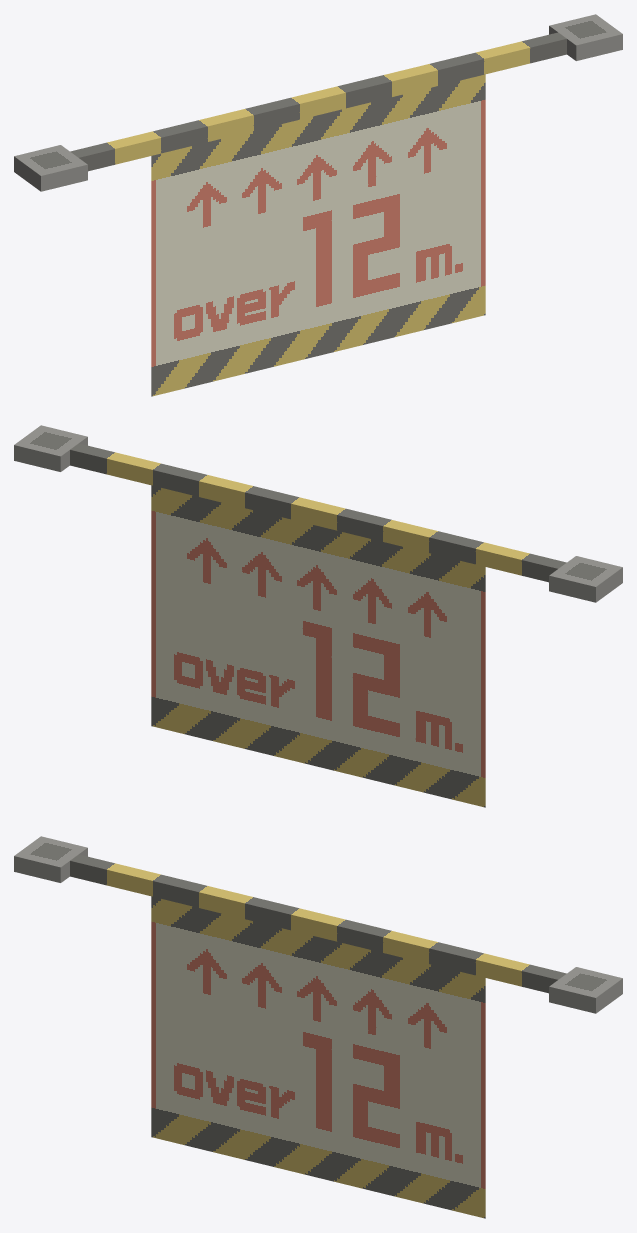
The model's file is 0340_Over_12m_Sign.glb.
3 views of the same model, one above another, from view 1: azimuth 30°, elevation 25°; view 2: azimuth 150°, elevation 25°; view 3: azimuth 330°, elevation 25° (orthographic).
Visible parts, largest first — view 1: part_0; view 2: part_0; view 3: part_0.
Boxes of the visible parts, x1,y1,x2,y2 form: part_0: [14, 14, 622, 396]; part_0: [14, 425, 622, 807]; part_0: [14, 836, 622, 1218].
Bounding box in the file's own units: 10.44 × 4.47 × 0.84.
Materials: 1 (1 with a texture image).
